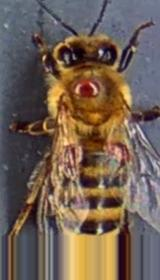varroa_mite: (98, 123, 144, 170), (51, 132, 90, 167), (70, 72, 106, 100)
